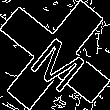M_NE: (21, 21, 89, 89)
